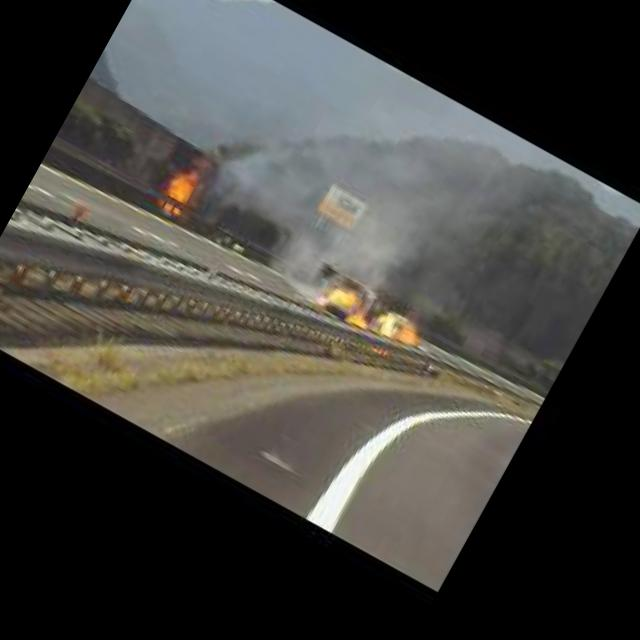fire: (310, 274, 380, 332), (154, 161, 204, 217), (374, 308, 426, 354)
